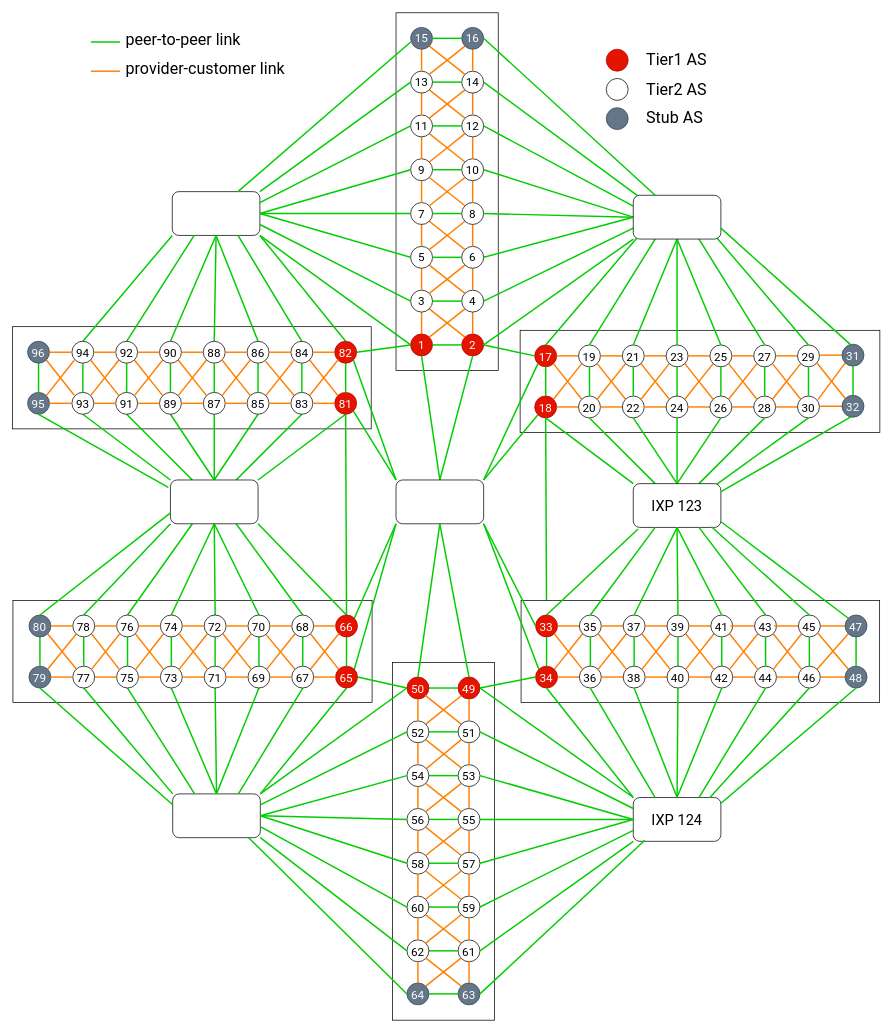
Image size: 893x1033. Some labels were removed from this diagram. Here are the shapes that lost their labels. From the top down, the box of each, then its label:
(172, 191, 260, 235): IXP 121
(633, 195, 721, 239): IXP 122
(170, 479, 258, 524): IXP 126
(395, 479, 484, 524): IXP 120
(172, 793, 260, 838): IXP 125
